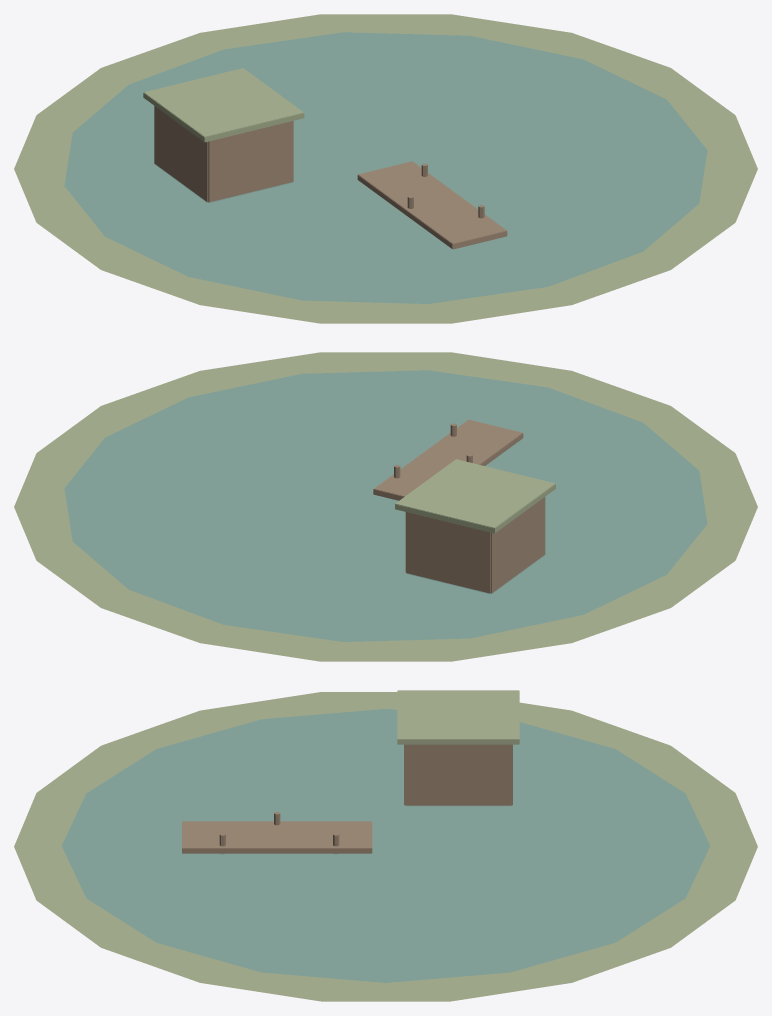
File: pond.glb
3 renders of one model, top to bottom at view 1: azimuth 30°, elevation 25°; view 2: azimuth 150°, elevation 25°; view 3: azimuth 270°, elevation 25°, orthographic.
Visible parts, largest first — view 1: Bank, Water, Shed, ShedRoof, Dock; view 2: Bank, Water, Shed, ShedRoof, Dock; view 3: Bank, Water, ShedRoof, Shed, Dock.
Boxes of the visible parts, x1,y1,x2,y2 form: Bank: (14,14,757,323); Water: (64,32,707,303); Shed: (154,106,293,202); ShedRoof: (143,68,304,142); Dock: (357,161,507,249); Bank: (14,352,757,661); Water: (64,370,707,641); Shed: (405,497,545,593); ShedRoof: (395,459,555,533); Dock: (373,419,523,500); Bank: (14,692,757,1001); Water: (62,709,709,982); ShedRoof: (397,690,519,744); Shed: (404,744,512,805); Dock: (182,821,372,853).
Bounding box in the file's own units: 16.15 × 1.8 × 16.4.
